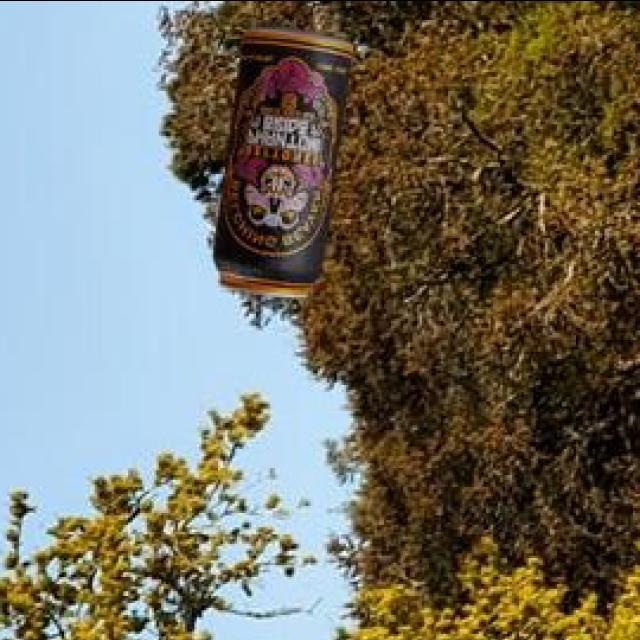logam: (210, 18, 350, 293)
